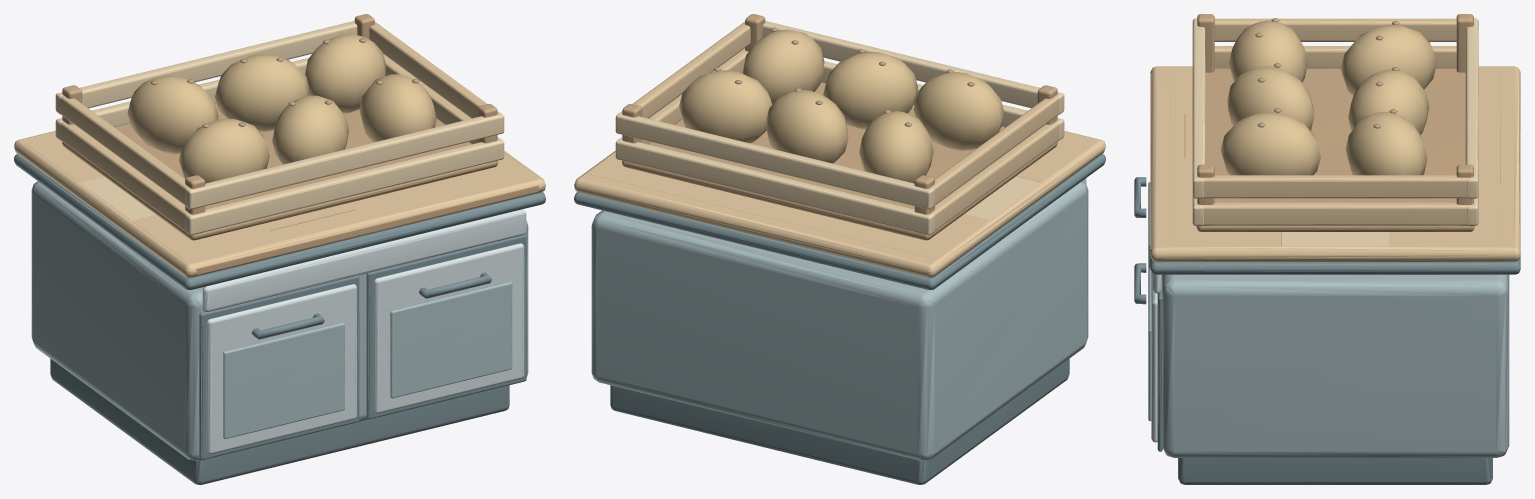
File: PantryPotato.fbx
3 views of the same model, side by side, from view 1: azimuth 30°, elevation 25°; view 2: azimuth 150°, elevation 25°; view 3: azimuth 270°, elevation 25° (orthographic). The views are drawn at different scales.
Parts seen in each view (by area): view 1: PantryPotato; view 2: PantryPotato; view 3: PantryPotato.
Part boxes in pixels (x1,y1,x2,y2): PantryPotato: (14,14,545,484); PantryPotato: (574,14,1105,484); PantryPotato: (1134,14,1520,484).
Bounding box in the file's own units: 1.9 × 1.6 × 1.67.
